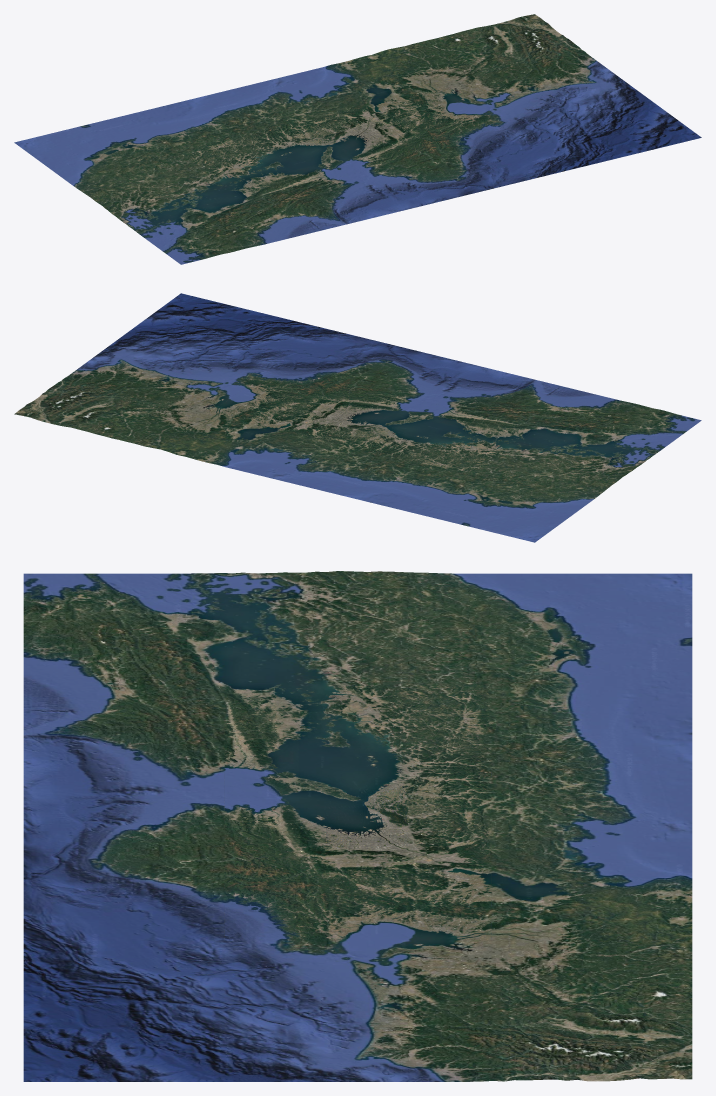
File: osaka_scenery.fbx
The picture shows the model from 3 angles, top to bottom: view 1: azimuth 30°, elevation 25°; view 2: azimuth 150°, elevation 25°; view 3: azimuth 270°, elevation 25°; orthographic projection. The views are drawn at different scales.
Parts seen in each view (by area): view 1: EXPORT_GOOGLE_SAT_WM.001, EXPORT_GOOGLE_SAT_WM, EXPORT_GOOGLE_SAT_WM.002; view 2: EXPORT_GOOGLE_SAT_WM.001, EXPORT_GOOGLE_SAT_WM, EXPORT_GOOGLE_SAT_WM.002; view 3: EXPORT_GOOGLE_SAT_WM.001, EXPORT_GOOGLE_SAT_WM, EXPORT_GOOGLE_SAT_WM.002.
Part boxes in pixels (x1,y1,x2,y2): EXPORT_GOOGLE_SAT_WM.001: (14, 14, 701, 264); EXPORT_GOOGLE_SAT_WM: (180, 87, 506, 199); EXPORT_GOOGLE_SAT_WM.002: (302, 125, 387, 156); EXPORT_GOOGLE_SAT_WM.001: (14, 293, 701, 542); EXPORT_GOOGLE_SAT_WM: (209, 365, 535, 476); EXPORT_GOOGLE_SAT_WM.002: (324, 406, 409, 437); EXPORT_GOOGLE_SAT_WM.001: (23, 571, 692, 1081); EXPORT_GOOGLE_SAT_WM: (224, 685, 491, 940); EXPORT_GOOGLE_SAT_WM.002: (324, 785, 407, 848).
Bounding box in the file's own units: 7.04e+07 × 402684 × 3.91e+07.
3 materials, 3 textured.
